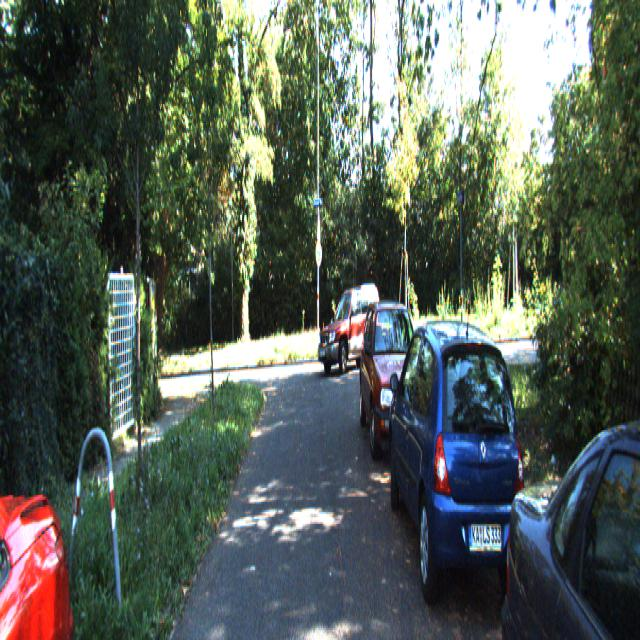Car: (384, 317, 531, 618), (495, 346, 640, 638), (0, 362, 92, 638), (358, 299, 432, 464), (316, 282, 384, 374)
